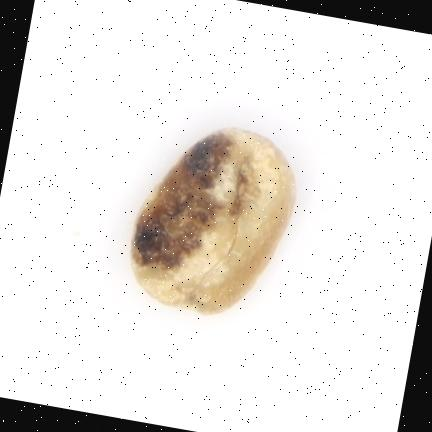partial-black: (130, 129, 295, 313)
